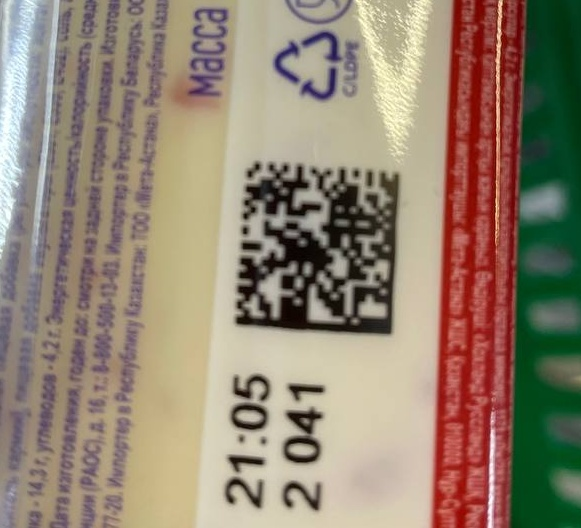2d: (234, 159, 401, 337)
